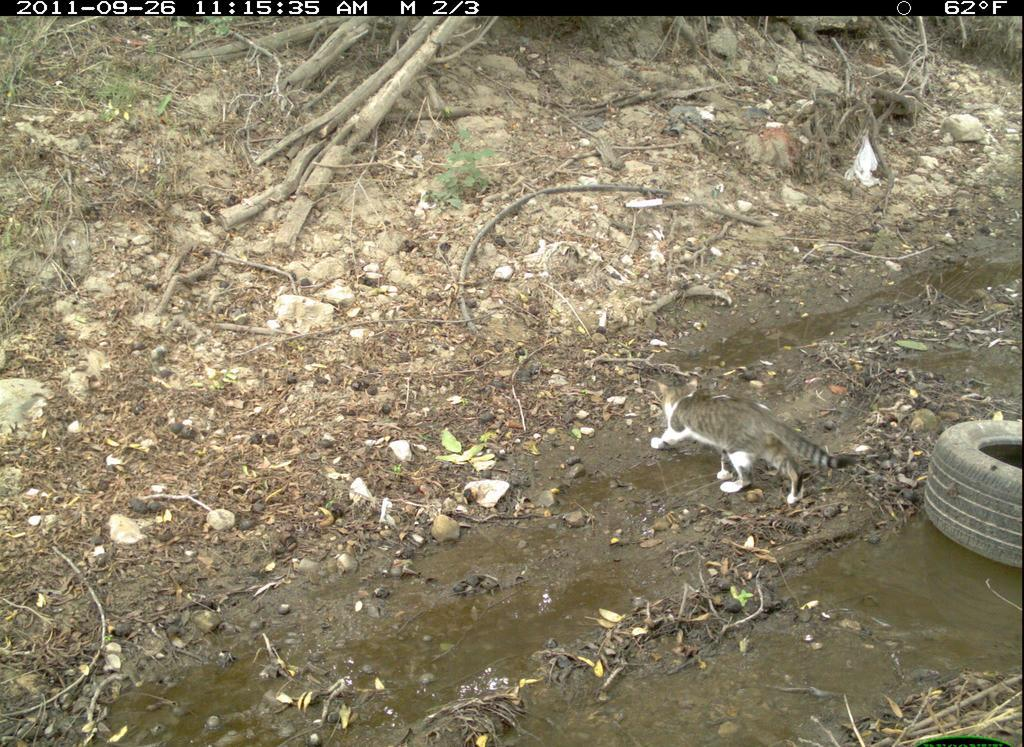cat: (646, 377, 863, 510)
